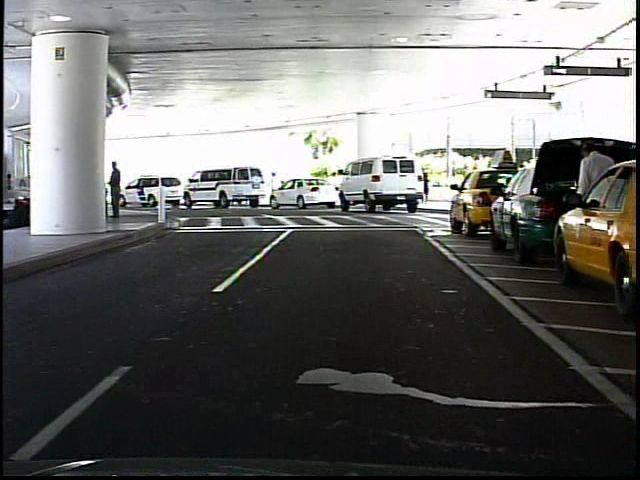person: (570, 130, 615, 275), (111, 158, 127, 224), (266, 170, 284, 205), (424, 170, 432, 206)
